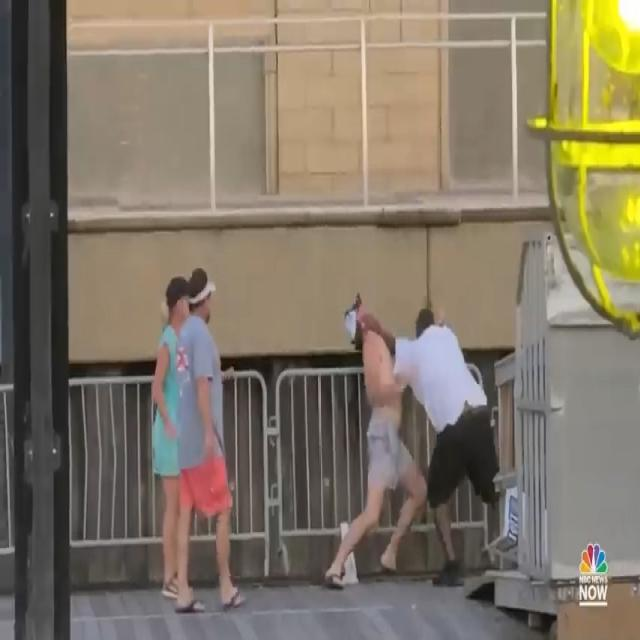fight: (322, 289, 500, 597)
non-fight: (150, 260, 248, 614)
